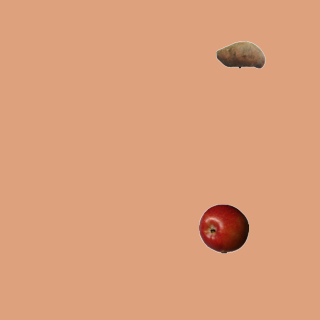Apple Braeburn: (198, 203, 248, 253)
Potato Sweet: (215, 29, 265, 79)
